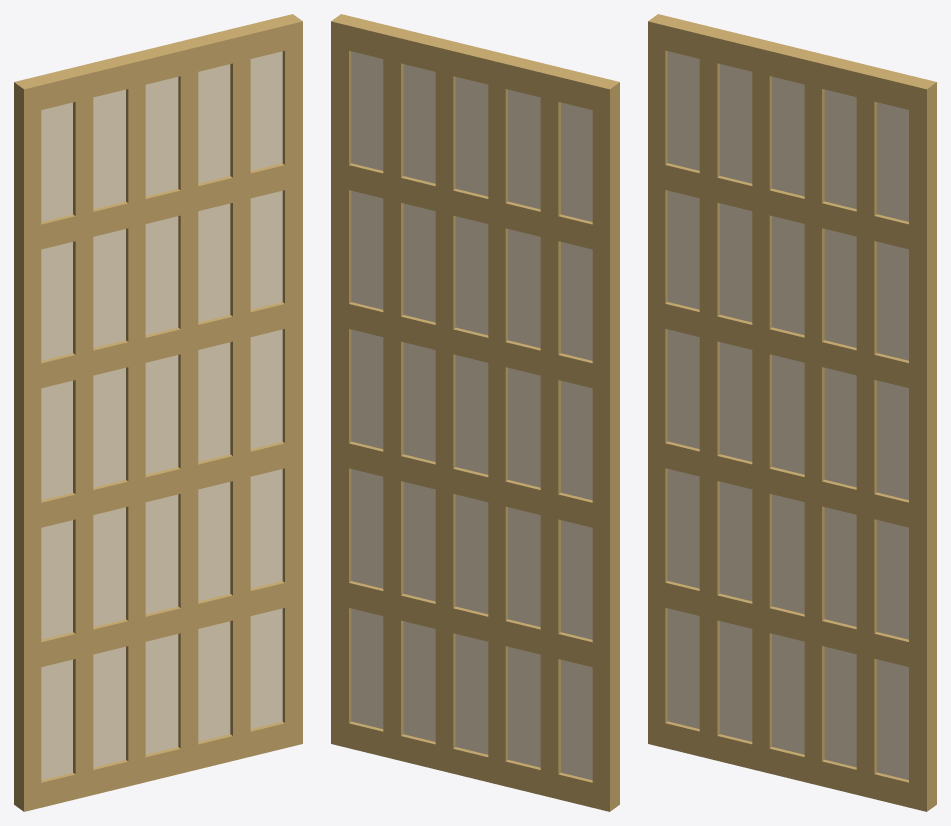
Rendered from Screen.fbx.
3 views of the same model, side by side, from view 1: azimuth 30°, elevation 25°; view 2: azimuth 150°, elevation 25°; view 3: azimuth 330°, elevation 25° (orthographic).
Parts seen in each view (by area): view 1: pCube9; view 2: pCube9; view 3: pCube9.
Part boxes in pixels (<box>): pCube9: <box>14,14,302,811</box>; pCube9: <box>331,14,619,811</box>; pCube9: <box>648,14,936,811</box>.
Size of the model in its own units: 34.03 by 84.24 by 2.13.
